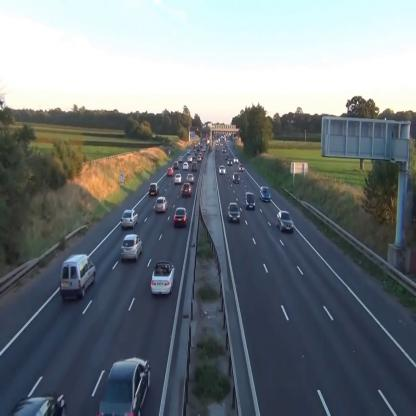car: (98, 356, 150, 416), (60, 254, 97, 300), (151, 261, 175, 296), (121, 234, 143, 262), (276, 210, 294, 233), (121, 210, 138, 229), (174, 206, 187, 228), (227, 203, 240, 222), (155, 197, 168, 213), (245, 192, 255, 211), (260, 186, 271, 202), (149, 182, 160, 196), (182, 183, 192, 198), (233, 172, 240, 184), (175, 174, 182, 185), (219, 165, 226, 175), (188, 172, 193, 184), (168, 168, 173, 176)
